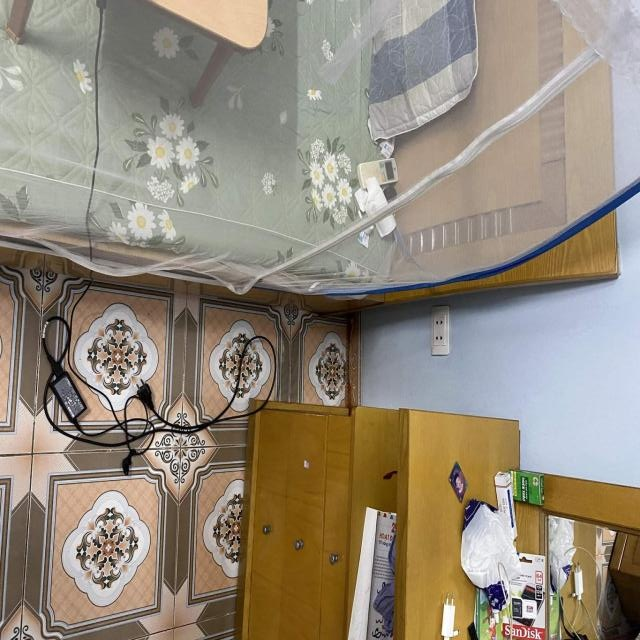outlet: (431, 305, 450, 356)
